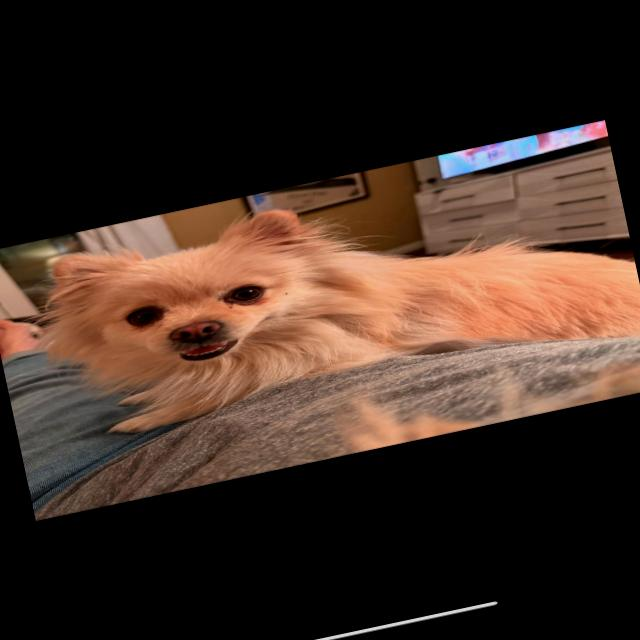pomeranian_dog: (8, 186, 368, 422)
